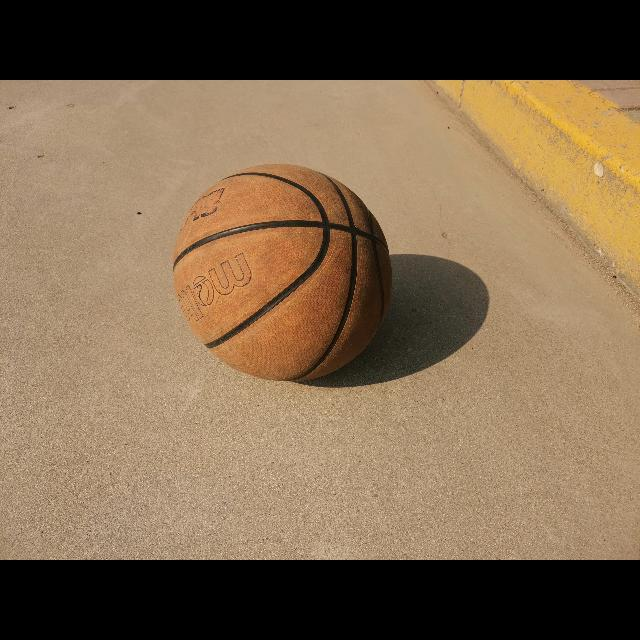basketball: (176, 165, 390, 382)
